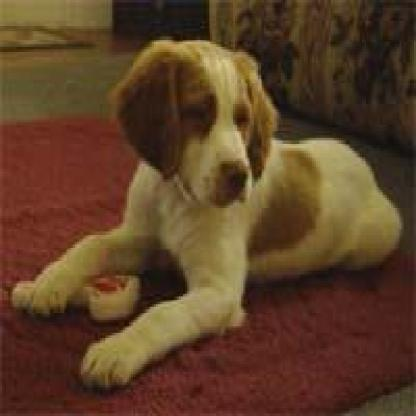Brittany_spaniel: (2, 31, 397, 382)
